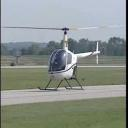helicopter: (22, 27, 119, 92)
